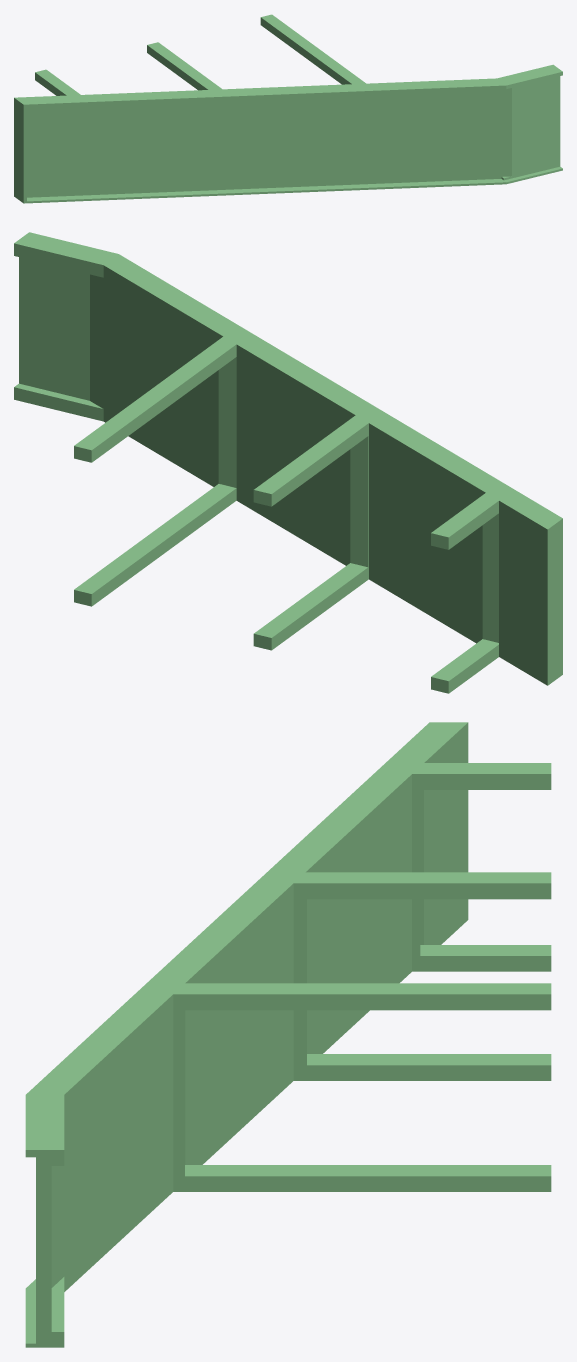
Rendered from rullo6.glb.
3 views of the same model, one above another, from view 1: azimuth 30°, elevation 25°; view 2: azimuth 150°, elevation 25°; view 3: azimuth 270°, elevation 25° (orthographic). The views are drawn at different scales.
Visible parts, largest first — view 1: Body1; view 2: Body1; view 3: Body1.
Part boxes in pixels (left/top/right/bottom): Body1: left=14, top=14, right=562, bottom=203; Body1: left=14, top=232, right=562, bottom=693; Body1: left=25, top=722, right=551, bottom=1347.
Bounding box in the file's own units: 0.1161 × 0.025 × 0.0603.
